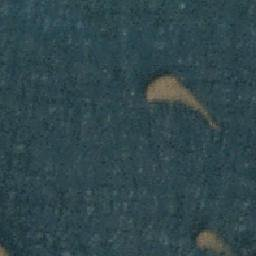debris: (145, 75, 219, 131), (193, 226, 235, 256)
